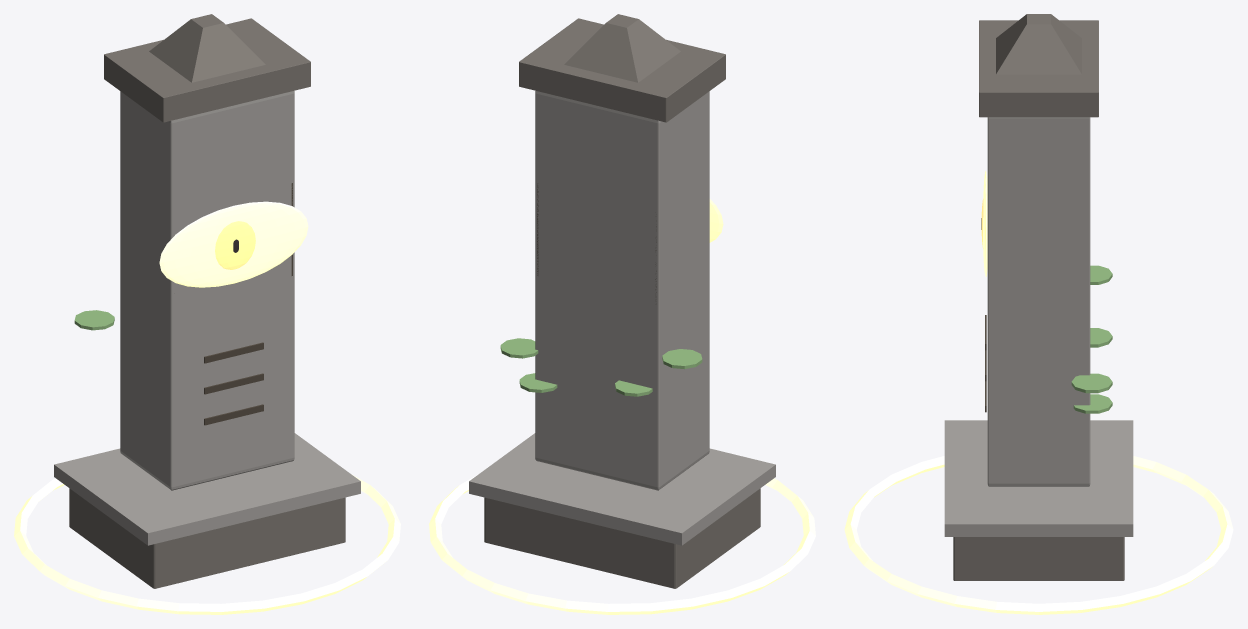
The model's file is glow_eye_totem.glb.
The picture shows the model from 3 angles, left to right: view 1: azimuth 30°, elevation 25°; view 2: azimuth 150°, elevation 25°; view 3: azimuth 270°, elevation 25°; orthographic projection.
Parts seen in each view (by area): view 1: glow_eye_totem; view 2: glow_eye_totem; view 3: glow_eye_totem.
Boxes of the visible parts, x1=… form: glow_eye_totem: x1=14, y1=14, x2=400, y2=614; glow_eye_totem: x1=429, y1=14, x2=815, y2=614; glow_eye_totem: x1=844, y1=14, x2=1233, y2=614.
Bounding box in the file's own units: 1.14 × 1.66 × 1.14.
